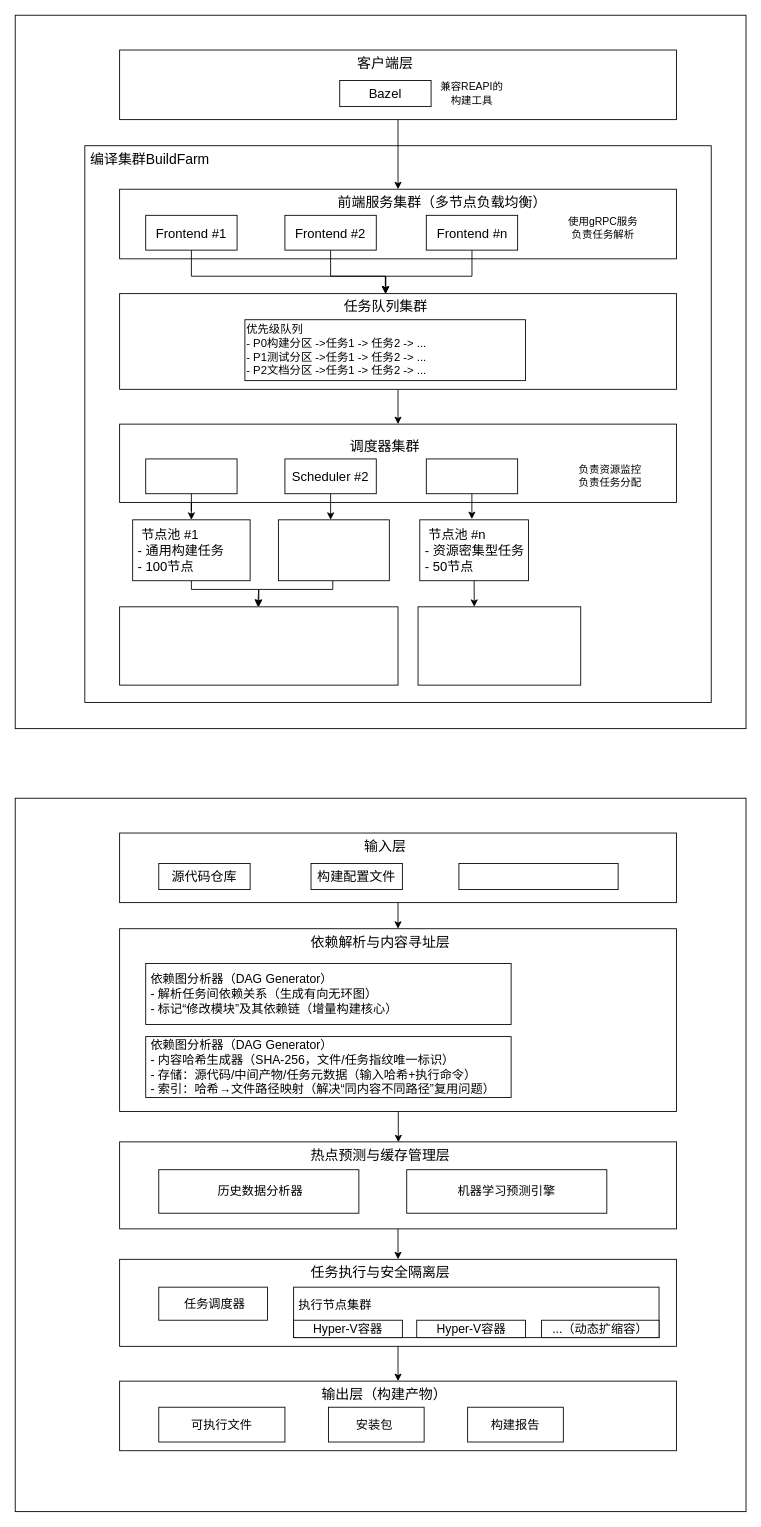
This 761x1527 diagram has some shape labels left out. Each missing label, with the centre of its shape:
"Scheduler #1" belongs at (191,476).
"Scheduler #n" belongs at (471,476).
"任务定义（编译/测试/打包）" belongs at (538,876).
"内容寻址存储集群（CAS）" belongs at (499,645).
"动作缓存集群（AC） - Redis集群 - 持久化" belongs at (258,645).
"节点池 #2 - 测试任务 - 50节点" belongs at (333,550).
